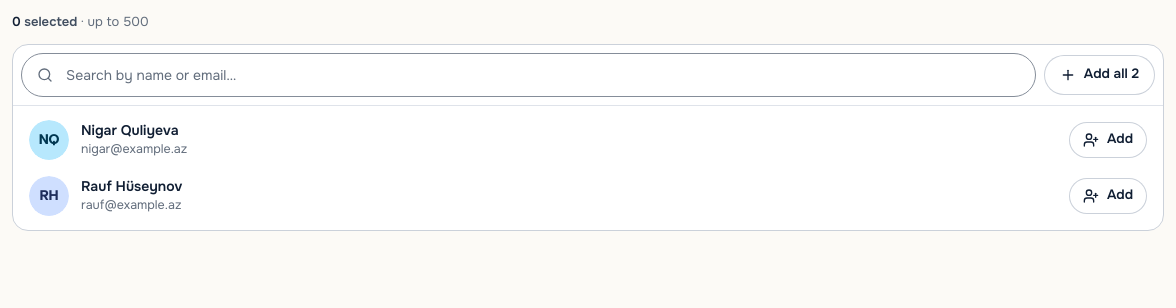
ParticipantsPicker › adds people as chips with name and email, counts them, and removes them
Click the button with aria-label "Add Nigar Quliyeva".
click(1108, 140)  # box [1069, 122, 1147, 158]
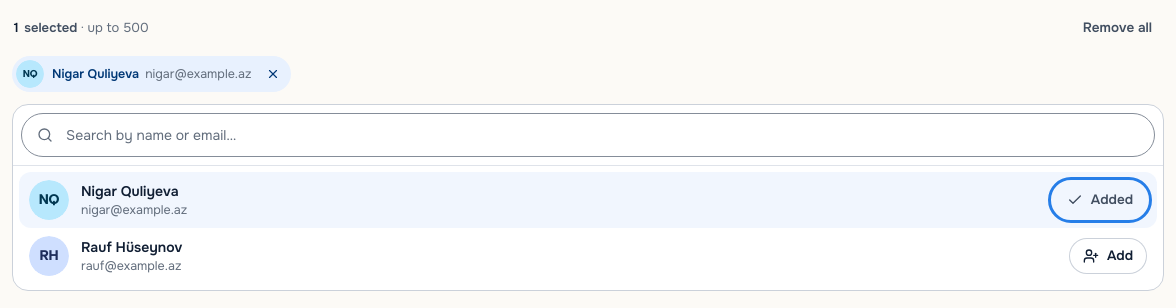
Click the button with aria-label "Add Rauf Hüseynov".
click(1108, 256)  # box [1069, 238, 1147, 274]
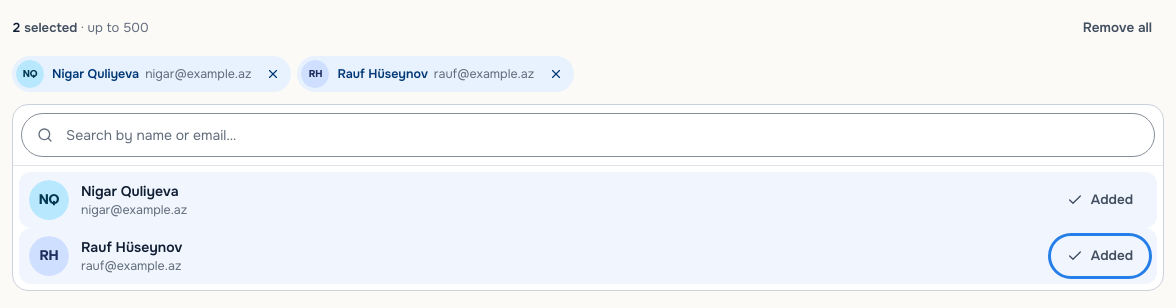
Now the 1st text "Nigar Quliyeva" is shown, box [52, 66, 139, 82]
Now the 1st text "nigar@example.az" is shown, box [145, 66, 251, 82]
Now the 1st text "rauf@example.az" is shown, box [434, 66, 534, 82]
Click the button named "Remove Nigar Quliyeva".
click(273, 74)  # box [259, 60, 287, 88]
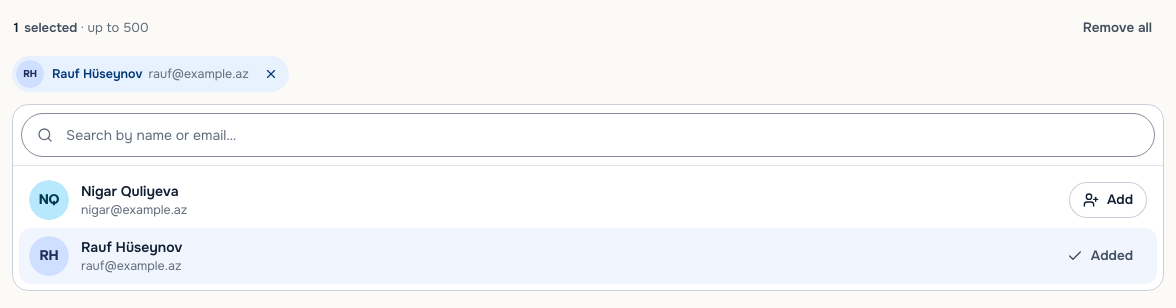
Now the text "1 selected · up to 500" is shown, box [12, 18, 149, 38]
